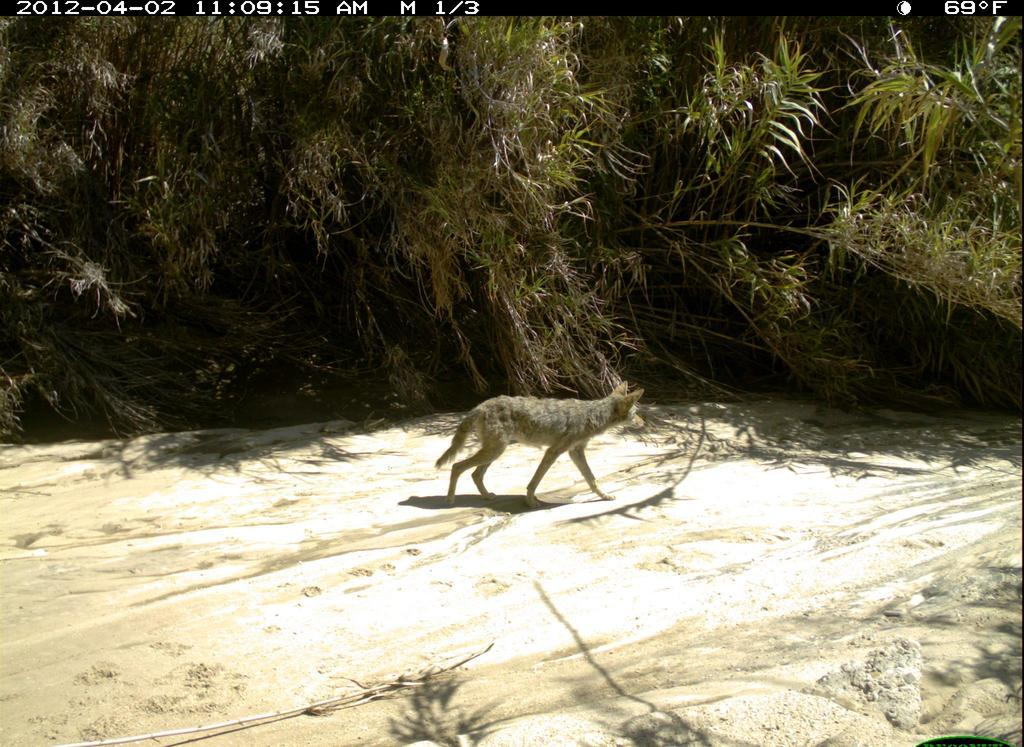coyote: (423, 373, 656, 513)
